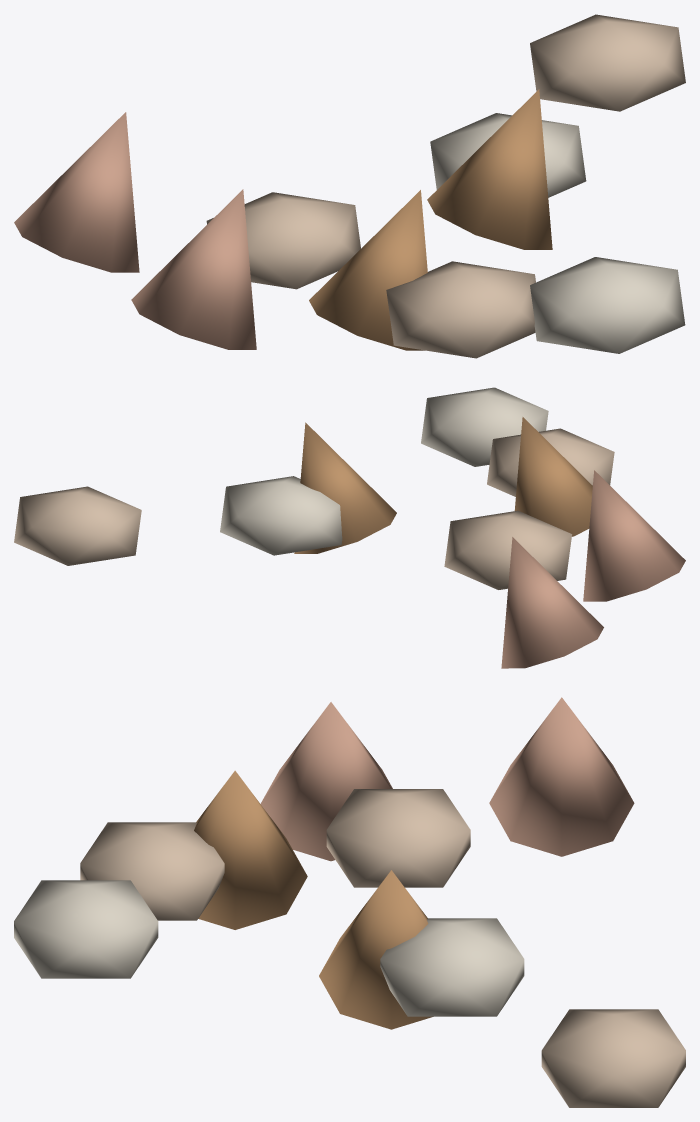
Rendered from pile_of_seashells_v0.glb.
The picture shows the model from 3 angles, top to bottom: view 1: azimuth 30°, elevation 25°; view 2: azimuth 150°, elevation 25°; view 3: azimuth 270°, elevation 25°; orthographic projection. The views are drawn at different scales.
Parts seen in each view (by area): view 1: pile_of_seashells_v0; view 2: pile_of_seashells_v0; view 3: pile_of_seashells_v0.
Boxes of the visible parts, x1,y1,x2,y2 form: pile_of_seashells_v0: (14, 14, 685, 358); pile_of_seashells_v0: (14, 387, 685, 668); pile_of_seashells_v0: (14, 697, 685, 1107).
Bounding box in the file's own units: 0.6902 × 0.1431 × 0.5548.
